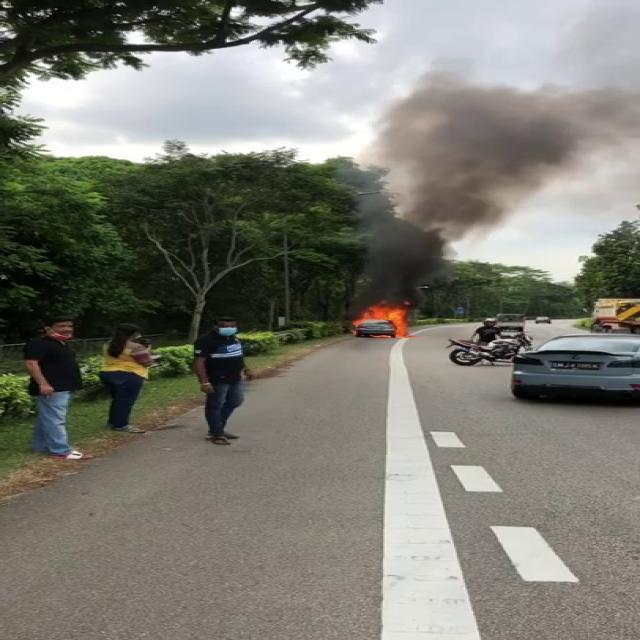Fire: (353, 300, 413, 338)
Smoke: (347, 45, 637, 294)
